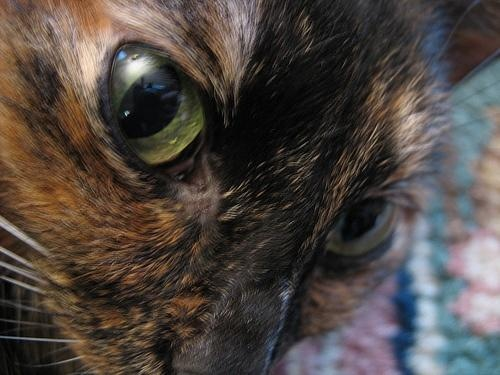cat: (2, 2, 500, 375)
